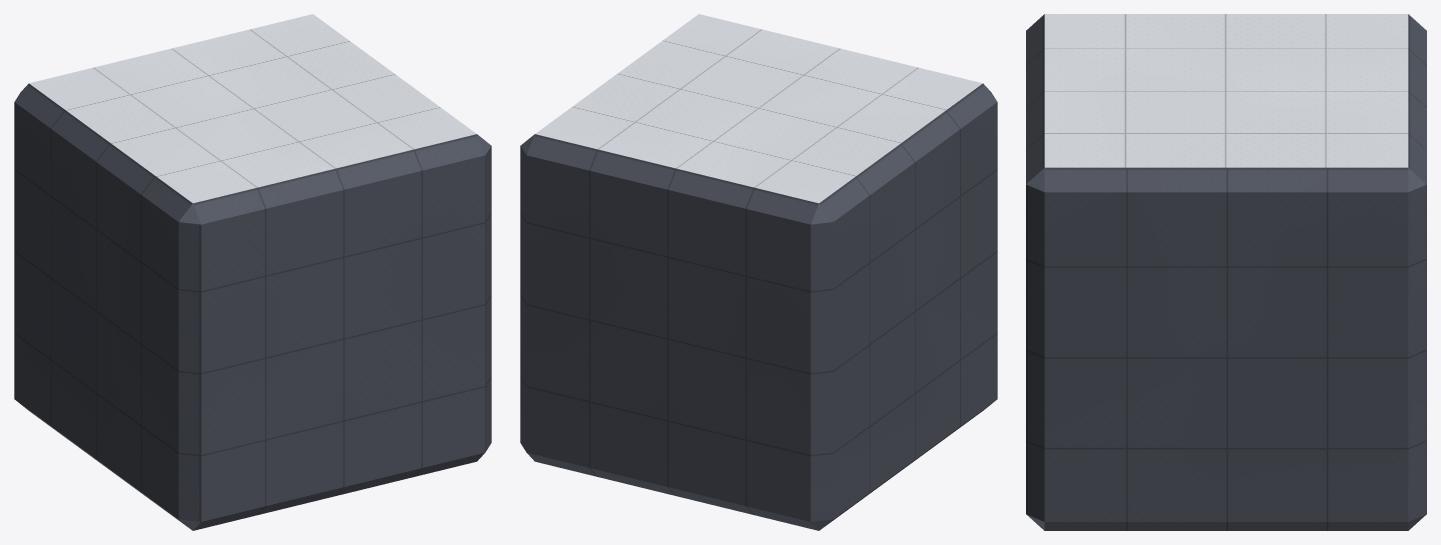
3 views of the same model, side by side, from view 1: azimuth 30°, elevation 25°; view 2: azimuth 150°, elevation 25°; view 3: azimuth 270°, elevation 25° (orthographic). The views are drawn at different scales.
Visible parts, largest first — view 1: R4B_Cube_LOD1; view 2: R4B_Cube_LOD1; view 3: R4B_Cube_LOD1.
Part boxes in pixels (x1=…): R4B_Cube_LOD1: x1=14, y1=14, x2=491, y2=530; R4B_Cube_LOD1: x1=520, y1=14, x2=997, y2=530; R4B_Cube_LOD1: x1=1026, y1=14, x2=1426, y2=530.
Bounding box in the file's own units: 0.52 × 0.52 × 0.52.
Materials: 3 (2 with a texture image).
